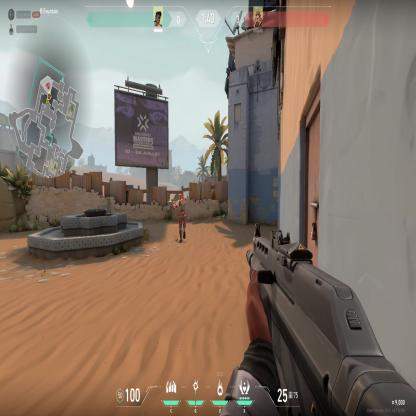enemy: (176, 194, 187, 244)
